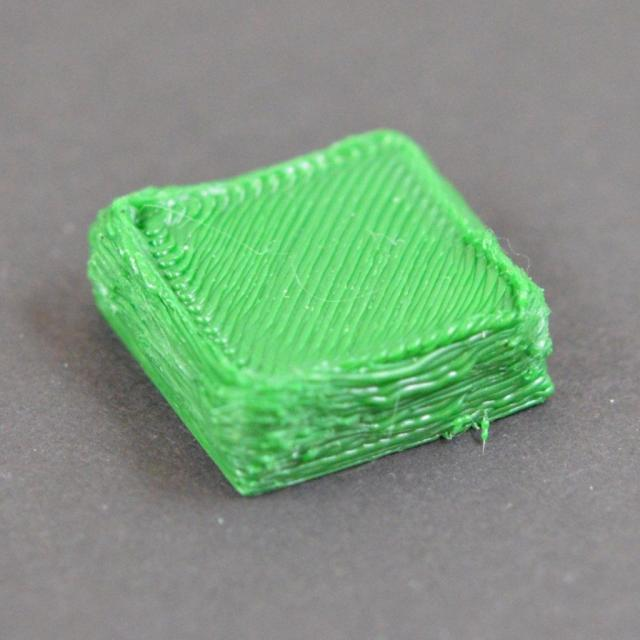blobs: (213, 292, 563, 503)
